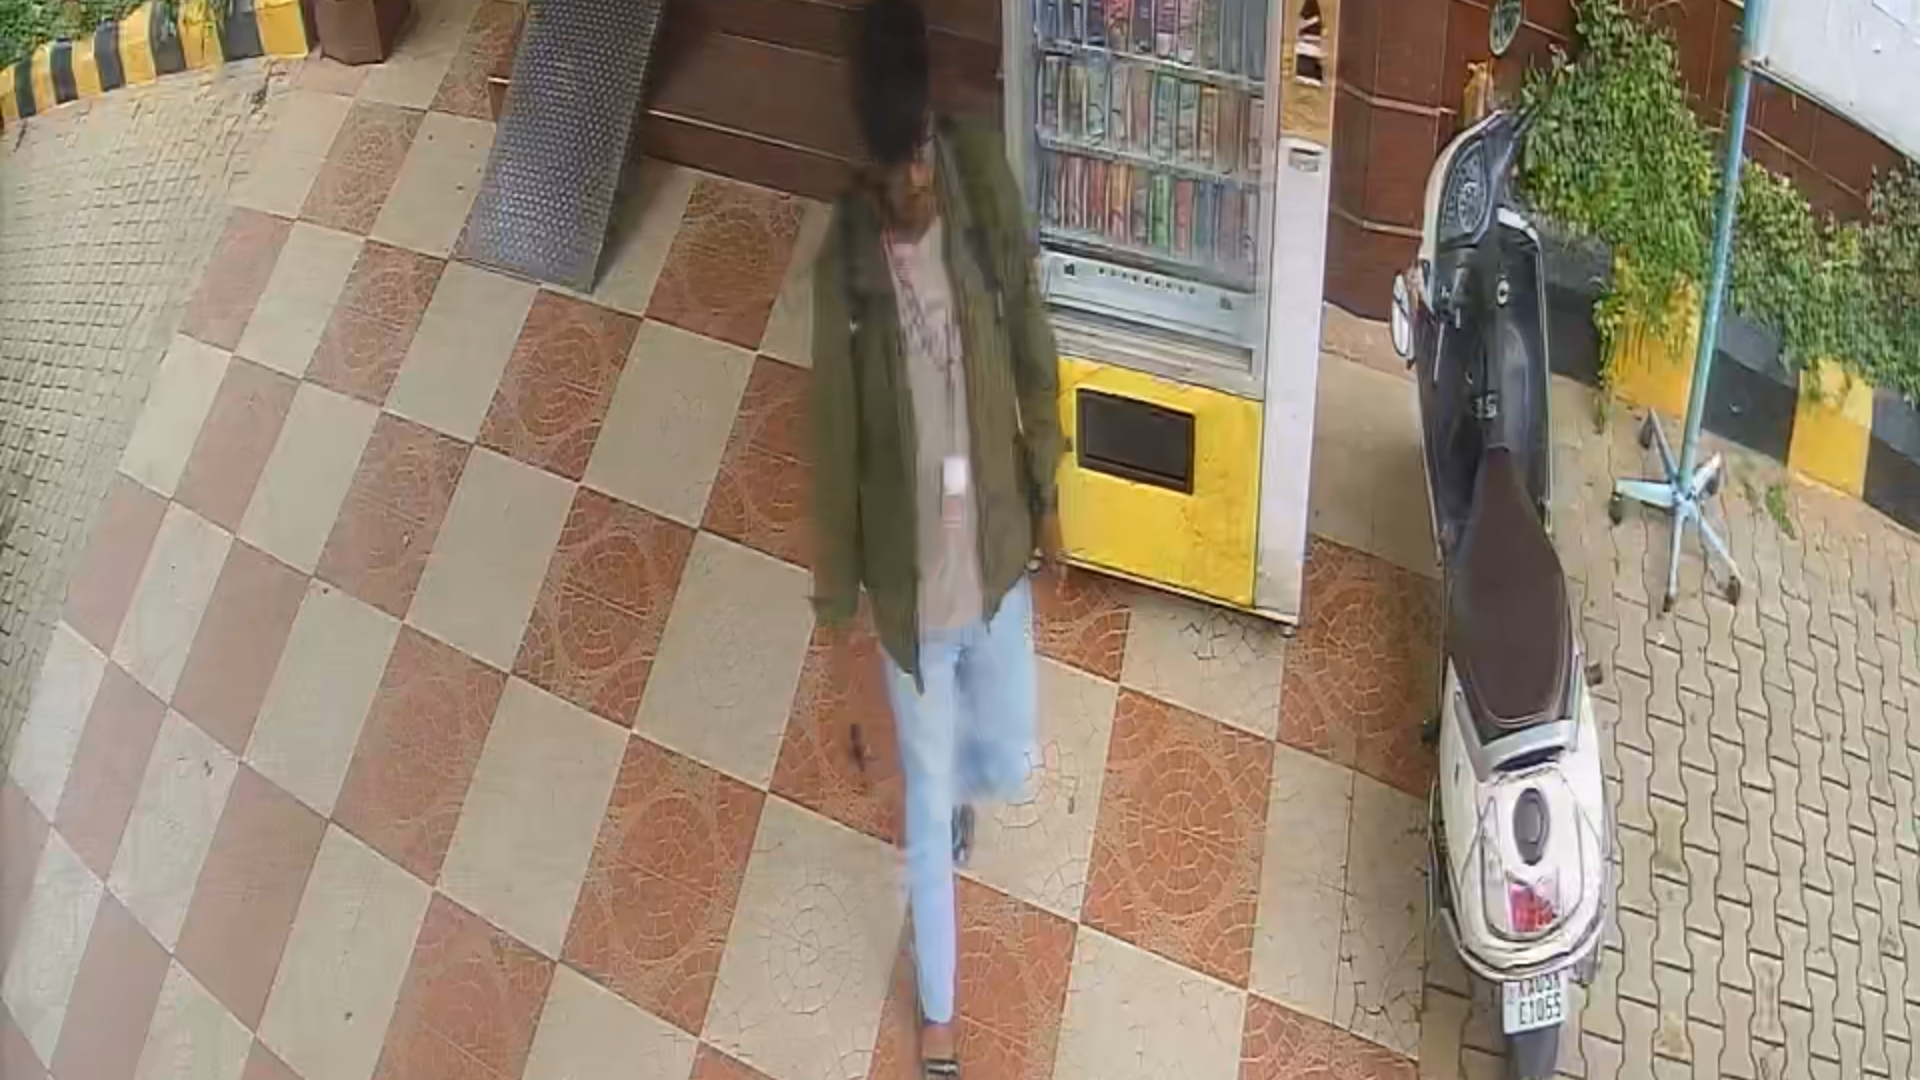not intruder: (818, 17, 1054, 1080)
